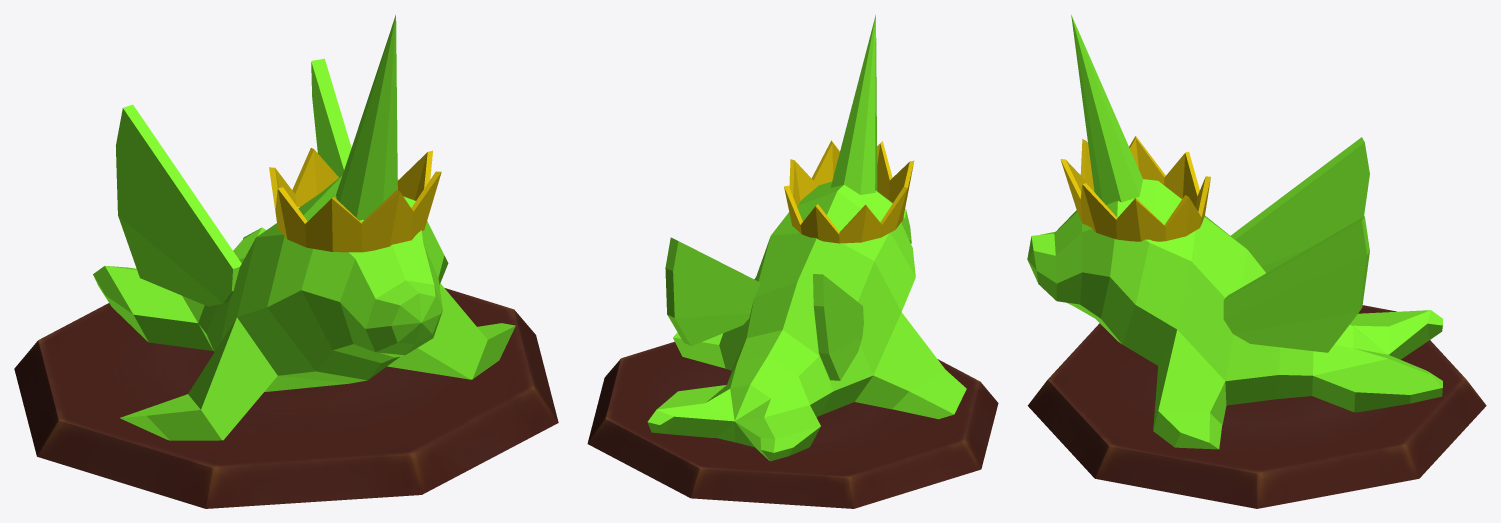
The model's file is Asset_Pawn_King.fbx.
3 renders of one model, left to right at view 1: azimuth 30°, elevation 25°; view 2: azimuth 150°, elevation 25°; view 3: azimuth 270°, elevation 25°, orthographic. The views are drawn at different scales.
Visible parts, largest first — view 1: king_stand, polySurface_Body, polySurface_Wings, crown, polySurface_Horn; view 2: polySurface_Body, king_stand, polySurface_Wings, crown, polySurface_Horn; view 3: polySurface_Body, king_stand, polySurface_Wings, crown, polySurface_Horn.
Part boxes in pixels (<box>): king_stand: <box>14,288,558,508</box>; polySurface_Body: <box>93,175,515,440</box>; polySurface_Wings: <box>116,58,351,306</box>; crown: <box>269,148,441,252</box>; polySurface_Horn: <box>336,15,397,220</box>; polySurface_Body: <box>647,181,966,461</box>; king_stand: <box>587,341,998,508</box>; polySurface_Wings: <box>665,237,863,380</box>; crown: <box>784,140,914,243</box>; polySurface_Horn: <box>830,15,877,194</box>; polySurface_Body: <box>1027,179,1442,449</box>; king_stand: <box>1027,305,1486,508</box>; polySurface_Wings: <box>1223,137,1369,352</box>; crown: <box>1060,136,1210,241</box>; polySurface_Horn: <box>1071,15,1142,204</box>.
Size of the model in its own units: 43.84 by 38.8 by 41.24.
